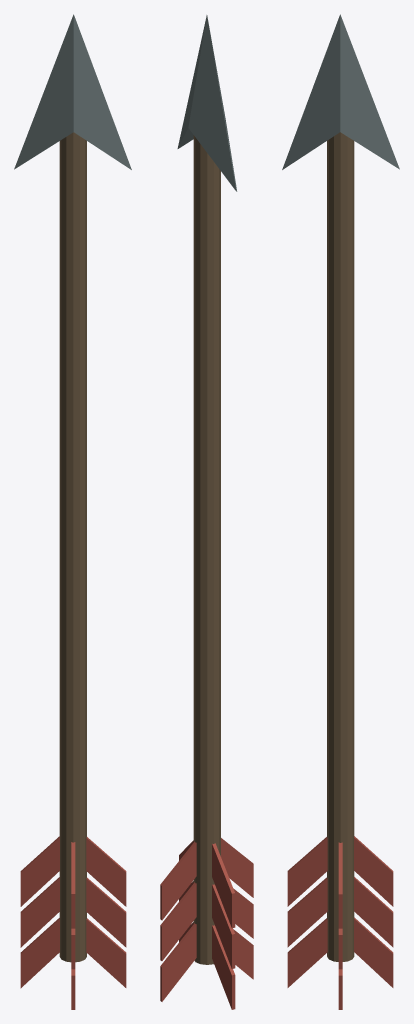
Rendered from Fleche.fbx.
3 views of the same model, side by side, from view 1: azimuth 90°, elevation 25°; view 2: azimuth 210°, elevation 25°; view 3: azimuth 270°, elevation 25° (orthographic).
Parts seen in each view (by area): view 1: Cylinder; view 2: Cylinder; view 3: Cylinder.
Part boxes in pixels (x1=…): Cylinder: x1=14, y1=14, x2=131, y2=1009; Cylinder: x1=160, y1=15, x2=253, y2=1009; Cylinder: x1=282, y1=14, x2=399, y2=1009.
Size of the model in its own units: 2.8 by 28.49 by 3.12.
